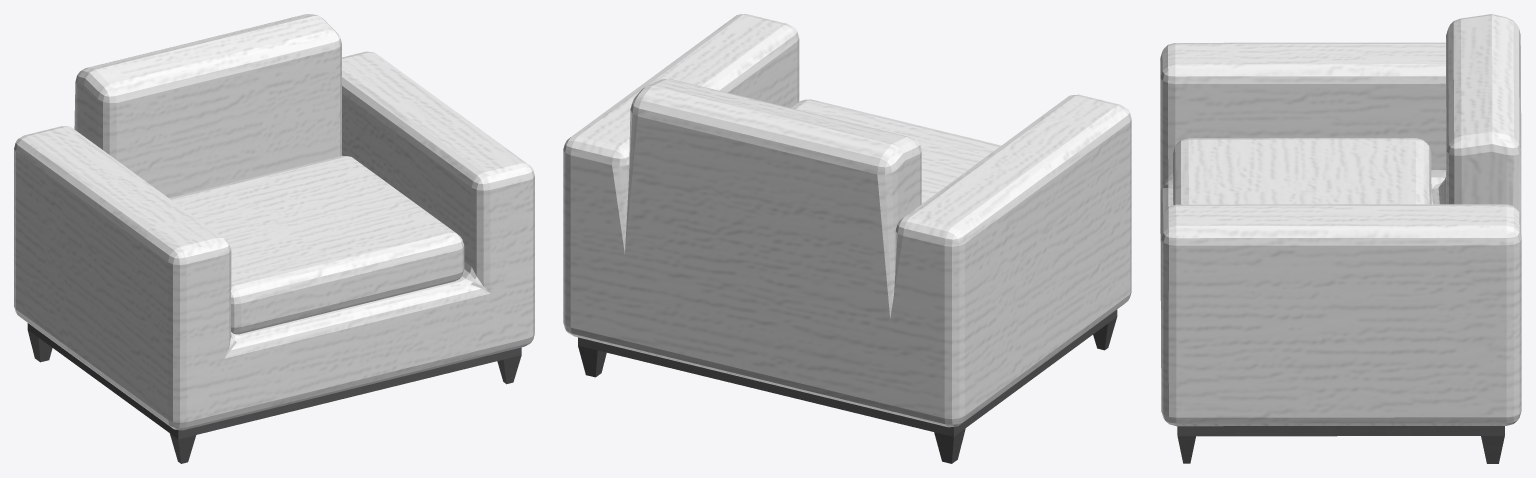
File: safa01.fbx
The picture shows the model from 3 angles, left to right: view 1: azimuth 30°, elevation 25°; view 2: azimuth 150°, elevation 25°; view 3: azimuth 270°, elevation 25°; orthographic projection. The views are drawn at different scales.
Parts seen in each view (by area): view 1: safa_1; view 2: safa_1; view 3: safa_1.
Boxes of the visible parts, box(x1,y1,x2,y2) form: safa_1: box(14, 14, 534, 463); safa_1: box(563, 14, 1131, 463); safa_1: box(1160, 14, 1521, 463).
Bounding box in the file's own units: 116 × 84.05 × 91.22.
Materials: 2 (2 with a texture image).
